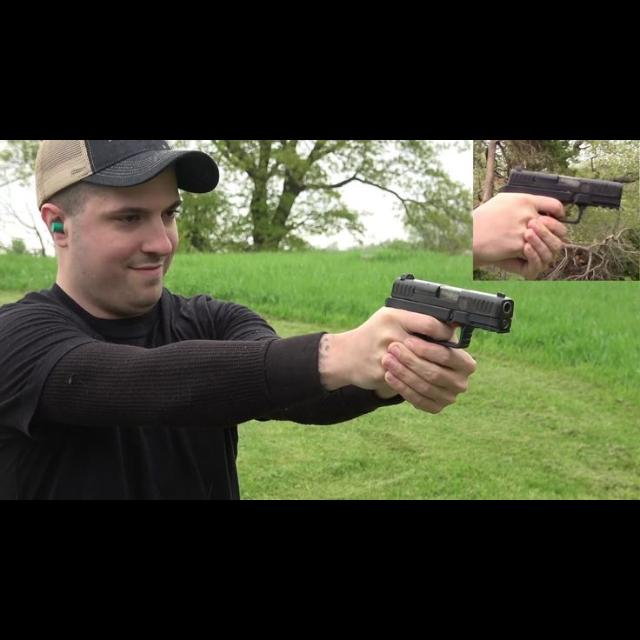handgun: (384, 272, 516, 351), (494, 162, 626, 234)
